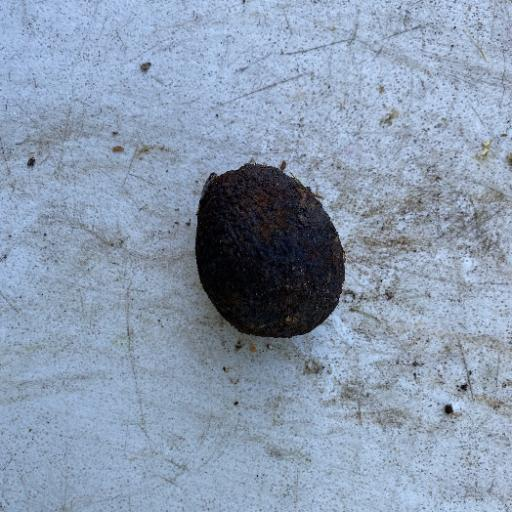Waste: (192, 160, 346, 339)
